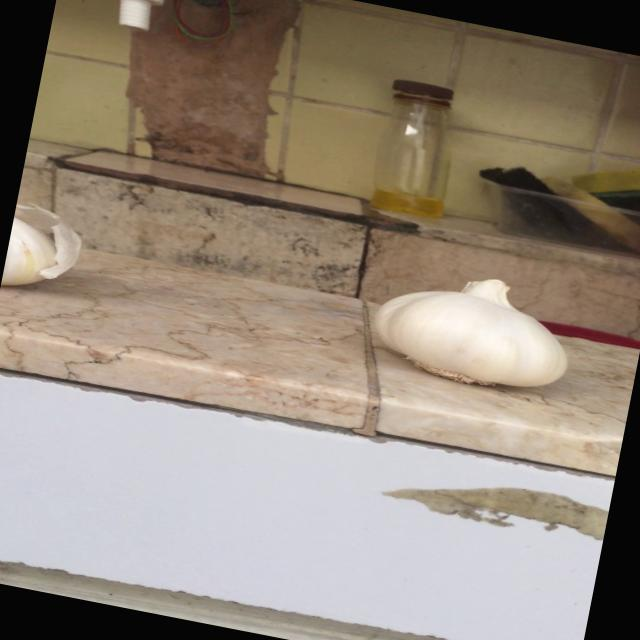garlic: (358, 254, 586, 406)
